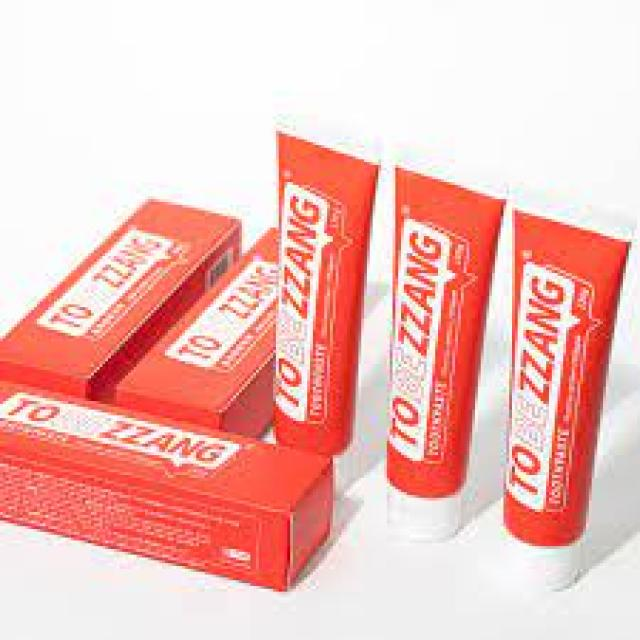toothpaste: (503, 180, 634, 597), (379, 137, 503, 558), (270, 114, 362, 503)
